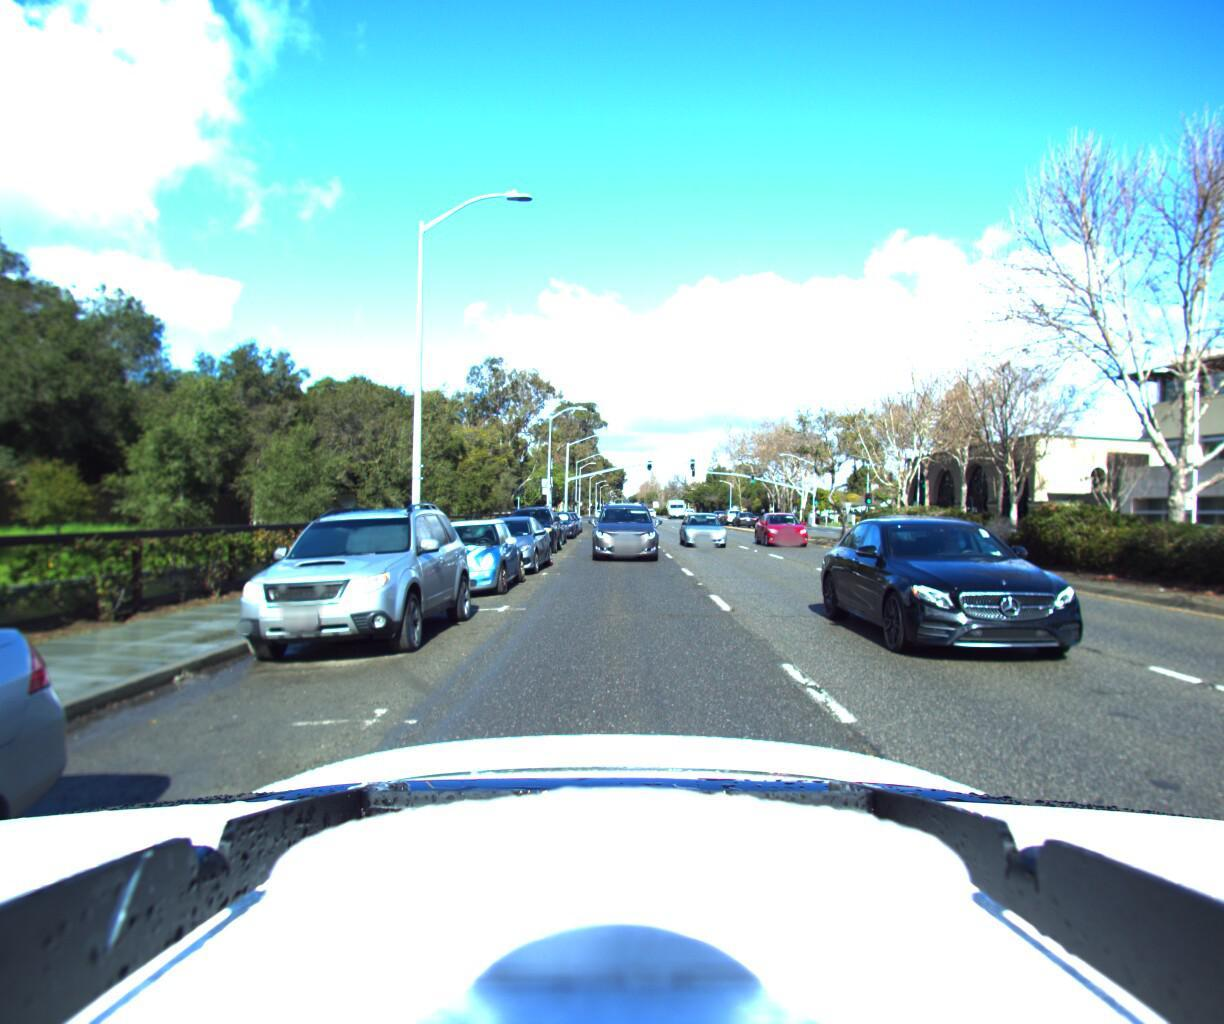car: (834, 518, 1215, 710), (212, 498, 470, 674), (874, 514, 1043, 592), (400, 518, 518, 597), (454, 515, 548, 579), (590, 496, 652, 563), (498, 504, 559, 555), (755, 510, 818, 547), (676, 509, 733, 549), (535, 510, 577, 539)
